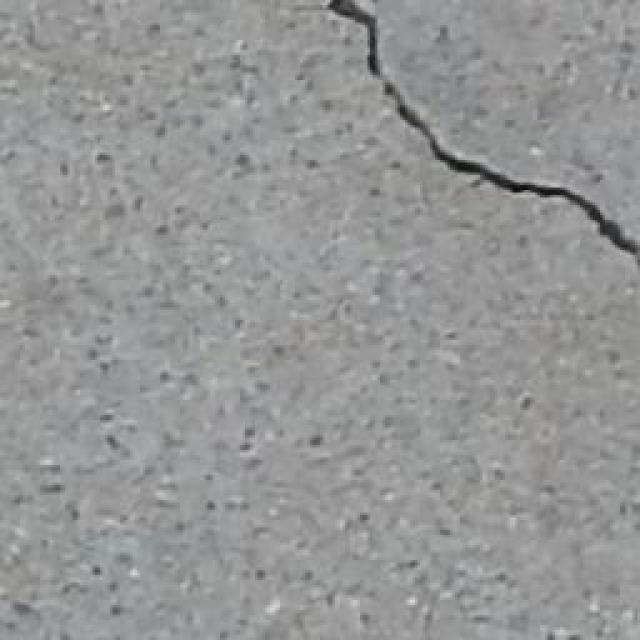concrete-crack: (324, 0, 637, 261)
